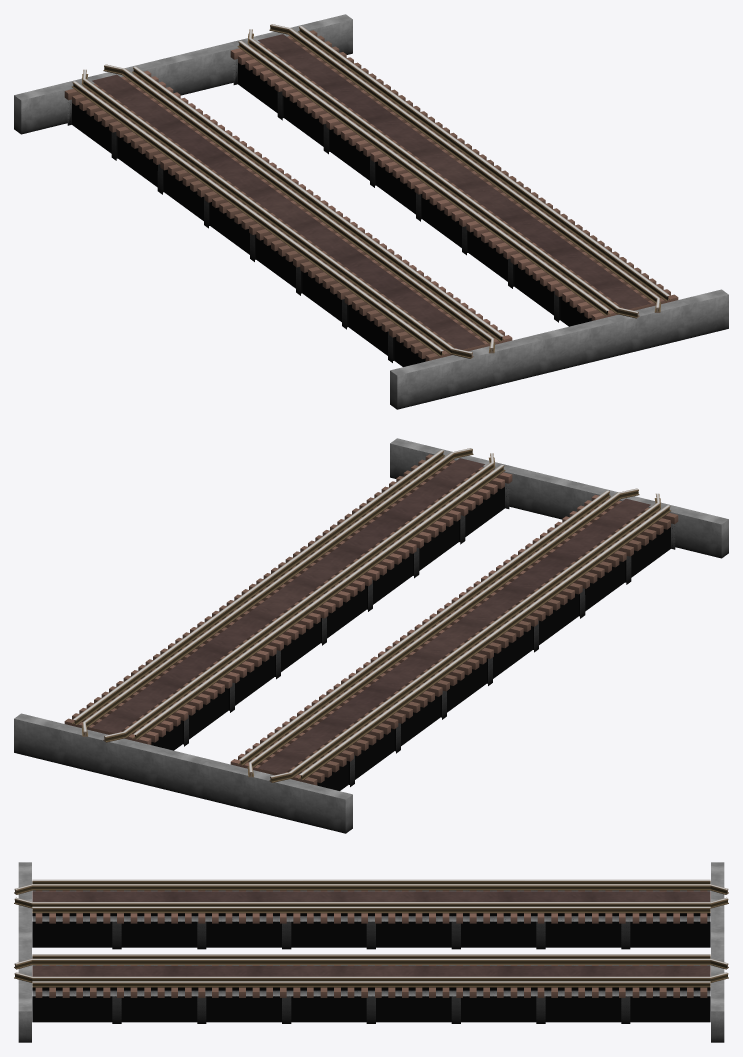
Rendered from 2RAIL_BRIDGE50_NOBANISTER.glb.
3 renders of one model, top to bottom at view 1: azimuth 30°, elevation 25°; view 2: azimuth 150°, elevation 25°; view 3: azimuth 270°, elevation 25°, orthographic. The views are drawn at different scales.
Parts seen in each view (by area): view 1: obj16, BACK, FRONT, obj10, obj8, obj4, bone0, obj11, obj9, obj12, obj5; view 2: obj16, FRONT, BACK, obj10, obj8, bone0, obj4, obj9, obj12, obj11, obj5; view 3: obj16, BACK, FRONT, obj10, obj8, obj4, bone0, obj9, obj11, obj12, obj5.
Part boxes in pixels (x1,y1,x2,y2): obj16: [67, 26, 670, 366]; BACK: [390, 289, 728, 409]; FRONT: [14, 14, 352, 134]; obj10: [337, 230, 633, 332]; obj8: [153, 95, 449, 197]; obj4: [389, 267, 678, 361]; bone0: [64, 30, 353, 127]; obj11: [204, 132, 493, 229]; obj9: [249, 165, 538, 261]; obj12: [109, 62, 398, 159]; obj5: [293, 197, 582, 294]; obj16: [72, 450, 675, 790]; FRONT: [14, 713, 352, 833]; BACK: [390, 438, 728, 558]; obj10: [337, 486, 633, 588]; obj8: [153, 621, 449, 723]; bone0: [64, 691, 353, 785]; obj4: [389, 454, 678, 551]; obj9: [249, 556, 538, 653]; obj12: [109, 659, 398, 756]; obj11: [204, 589, 493, 685]; obj5: [293, 524, 582, 621]; obj16: [32, 879, 710, 1023]; BACK: [14, 862, 32, 1042]; FRONT: [710, 862, 728, 1042]; obj10: [117, 890, 205, 997]; obj8: [456, 890, 544, 997]; obj4: [35, 890, 110, 997]; bone0: [632, 890, 707, 997]; obj9: [293, 890, 367, 997]; obj11: [375, 890, 449, 997]; obj12: [551, 890, 625, 997]; obj5: [212, 890, 286, 997].
Size of the model in its own units: 26 by 3.21 by 52.7.
Materials: 18 (15 with a texture image).
